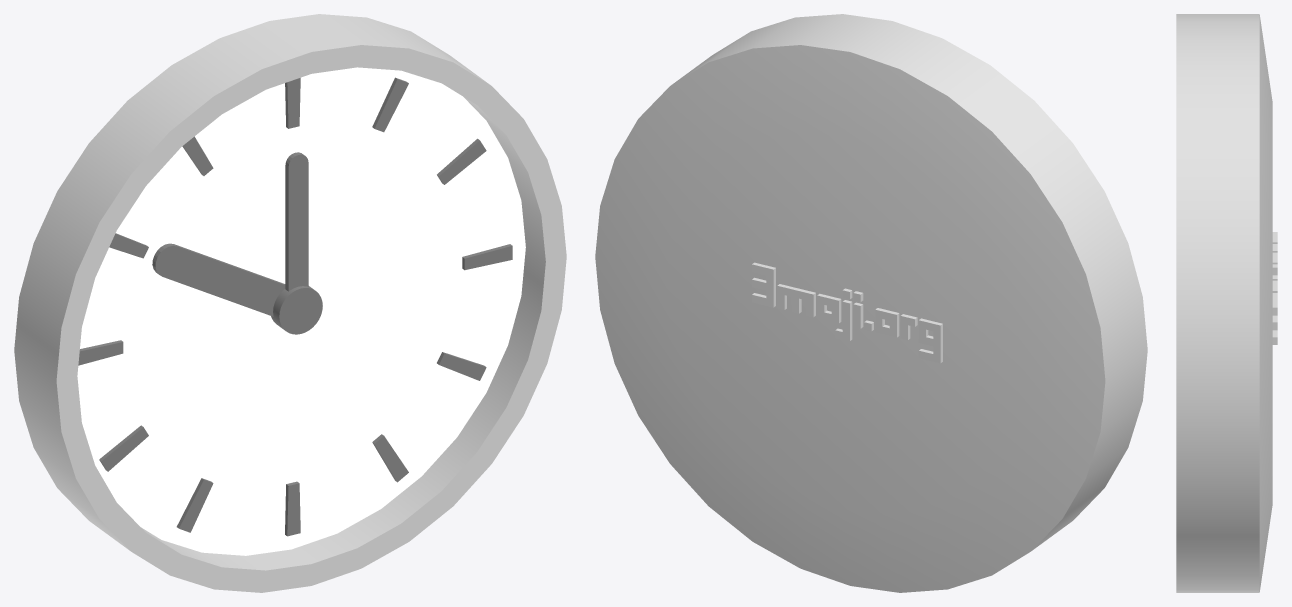
The model's file is ten_oclock.glb.
3 views of the same model, side by side, from view 1: azimuth 30°, elevation 25°; view 2: azimuth 150°, elevation 25°; view 3: azimuth 270°, elevation 25° (orthographic).
Visible parts, largest first — view 1: Circle.2489; view 2: Circle.2489; view 3: Circle.2489.
Boxes of the visible parts, x1,y1,x2,y2 form: Circle.2489: [14, 14, 566, 592]; Circle.2489: [595, 14, 1147, 592]; Circle.2489: [1176, 14, 1277, 592].
Bounding box in the file's own units: 2.33 × 2.33 × 0.4069.
1 material, 1 textured.
